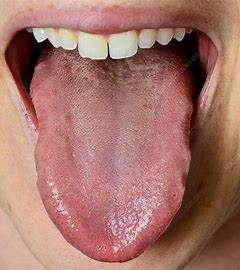baitaishe: (30, 61, 193, 263)
chihenshe: (178, 105, 193, 195), (31, 95, 42, 190)
